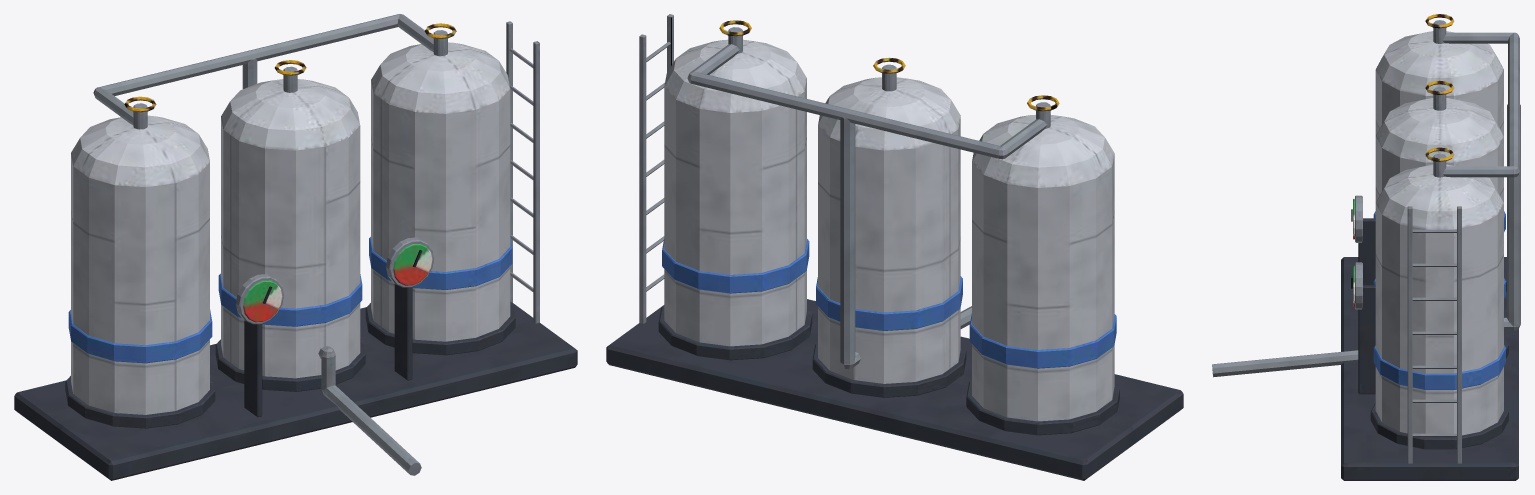
Rendered from tank-farm.glb.
3 views of the same model, side by side, from view 1: azimuth 30°, elevation 25°; view 2: azimuth 150°, elevation 25°; view 3: azimuth 270°, elevation 25° (orthographic). The views are drawn at different scales.
Visible parts, largest first — view 1: Tank0, Tank2, Tank1, Skid, TankDome1, TankDome0, TankDome2, Manifold, Downpipe, TankBand0, TankSaddle0, TankBand1 (+11 smaller); view 2: Tank0, Tank2, Tank1, Skid, TankDome0, TankDome2, TankDome1, Manifold, Downpipe, TankBand2, TankBand0, TankBand1 (+4 smaller); view 3: Tank2, Skid, TankDome1, TankDome2, TankDome0, Downpipe, Manifold, Tank0, TankBand2, Tank1, TankSaddle2, DialPost1 (+5 smaller).
Boxes of the visible parts, <box> form: Tank0: <box>71,155,209,414</box>; Tank2: <box>371,80,510,341</box>; Tank1: <box>221,118,360,378</box>; Skid: <box>14,303,577,480</box>; TankDome1: <box>221,79,359,150</box>; TankDome0: <box>71,115,209,187</box>; TankDome2: <box>371,42,510,113</box>; Manifold: <box>93,14,433,124</box>; Downpipe: <box>242,58,421,475</box>; TankBand0: <box>68,309,212,363</box>; TankSaddle0: <box>65,375,215,428</box>; TankBand1: <box>218,273,362,326</box>; Tank0: <box>972,154,1114,421</box>; Tank2: <box>664,79,806,346</box>; Tank1: <box>818,117,960,383</box>; Skid: <box>606,299,1183,480</box>; TankDome0: <box>972,114,1114,187</box>; TankDome2: <box>664,39,806,112</box>; TankDome1: <box>818,77,960,150</box>; Manifold: <box>687,44,1047,159</box>; Downpipe: <box>840,117,971,369</box>; TankBand2: <box>662,239,809,293</box>; TankBand0: <box>969,313,1116,368</box>; TankBand1: <box>816,276,962,330</box>; Tank2: <box>1375,203,1503,435</box>; Skid: <box>1341,257,1518,480</box>; TankDome1: <box>1375,98,1503,162</box>; TankDome2: <box>1376,164,1503,229</box>; TankDome0: <box>1376,31,1503,95</box>; Downpipe: <box>1212,104,1520,377</box>; Manifold: <box>1442,32,1519,177</box>; Tank0: <box>1375,70,1503,135</box>; TankBand2: <box>1373,345,1505,389</box>; Tank1: <box>1375,137,1503,202</box>; TankSaddle2: <box>1370,403,1508,449</box>; DialPost1: <box>1358,285,1375,394</box>.
Size of the model in its own units: 5 by 3.26 by 3.13.
Materials: 7 (7 with a texture image).
